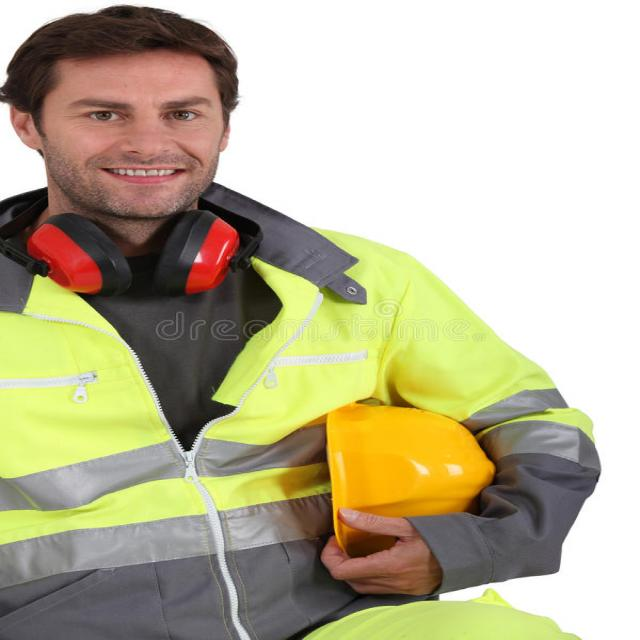Reflective-Jacket: (0, 213, 582, 639)
Safety-Helmet: (317, 402, 498, 522)
